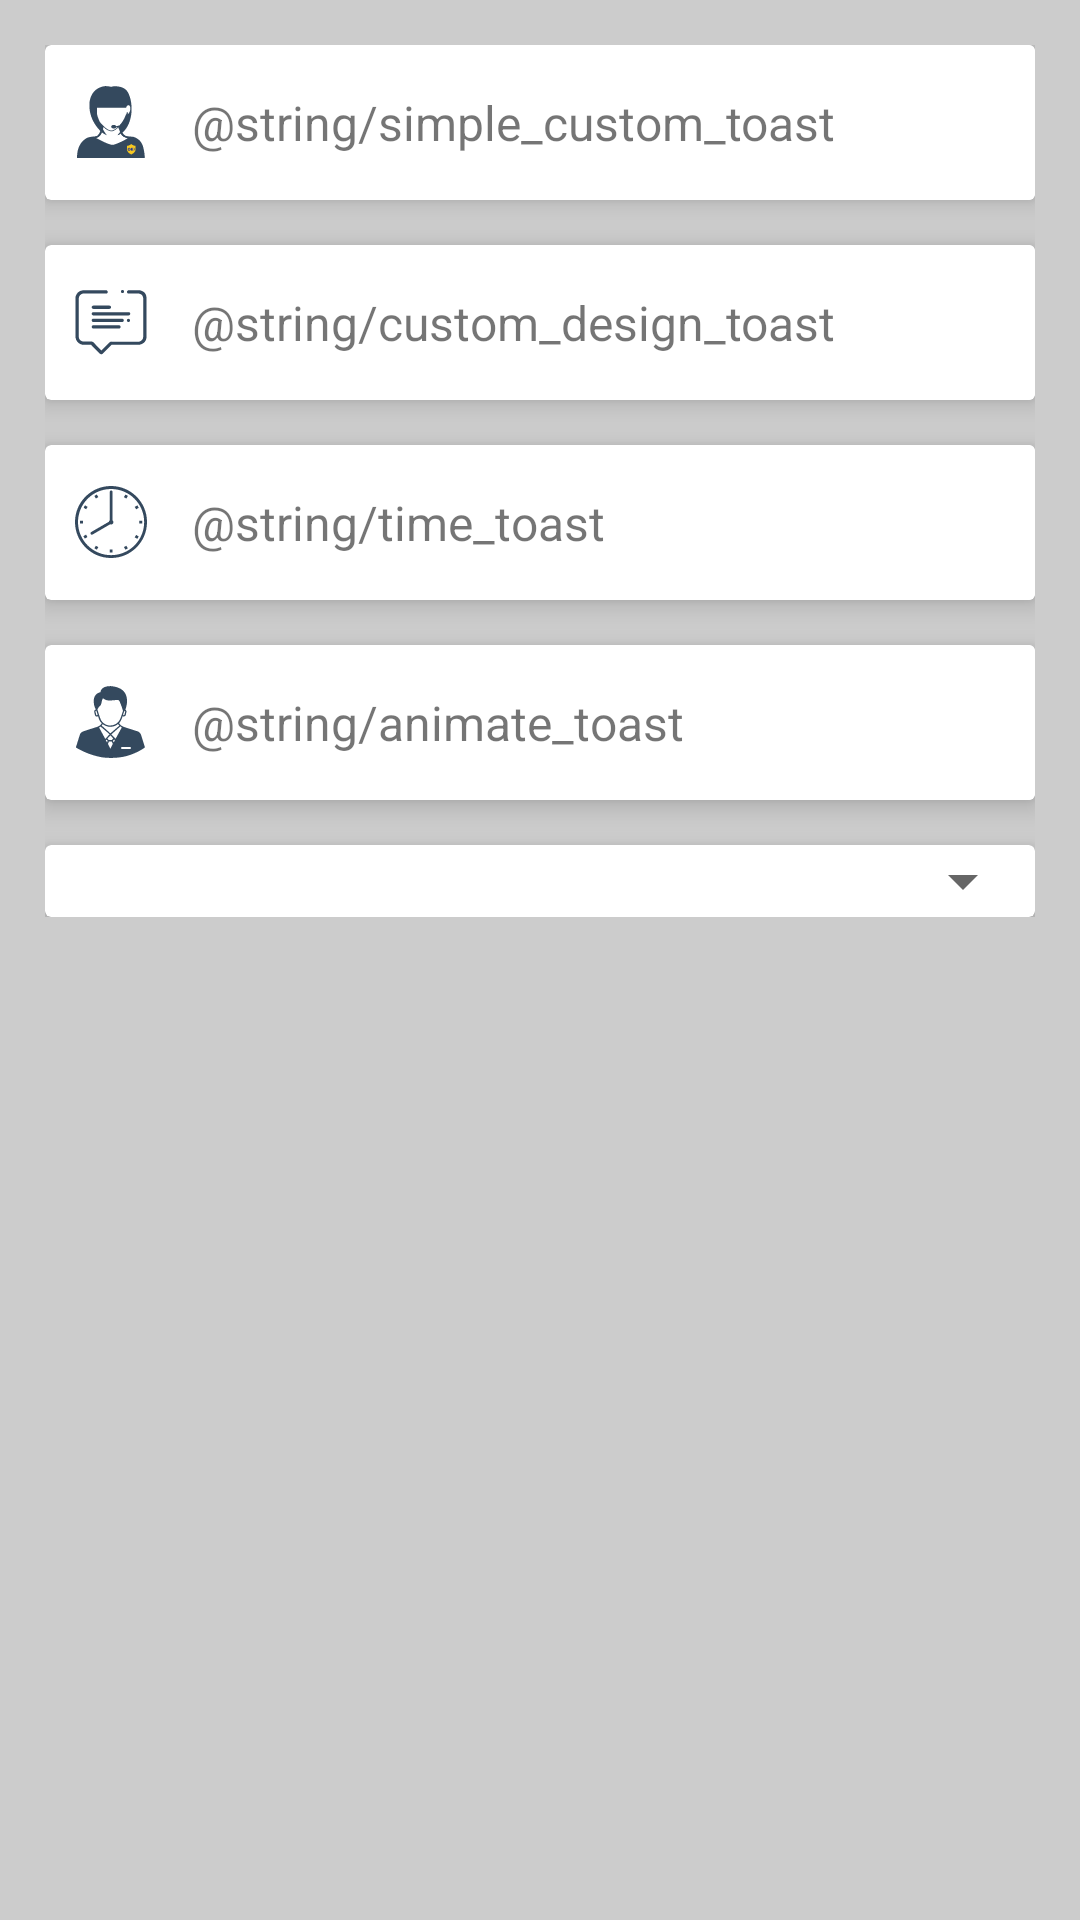

Icons on this 1080 × 1920 Android screen, each with the point to tap as point (x, y):
answer: point (111, 322)
help: point (111, 122)
opening hour: point (111, 522)
personal: point (110, 722)
